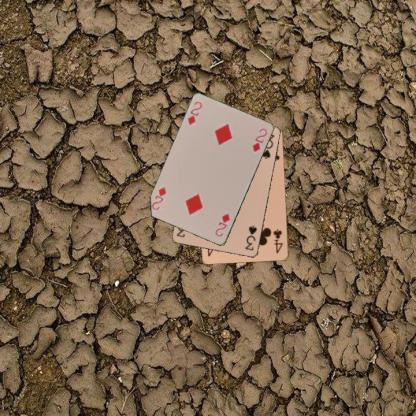2d: (213, 209, 231, 238), (185, 99, 203, 127)
3s: (243, 223, 258, 252)
4c: (271, 226, 284, 255)
